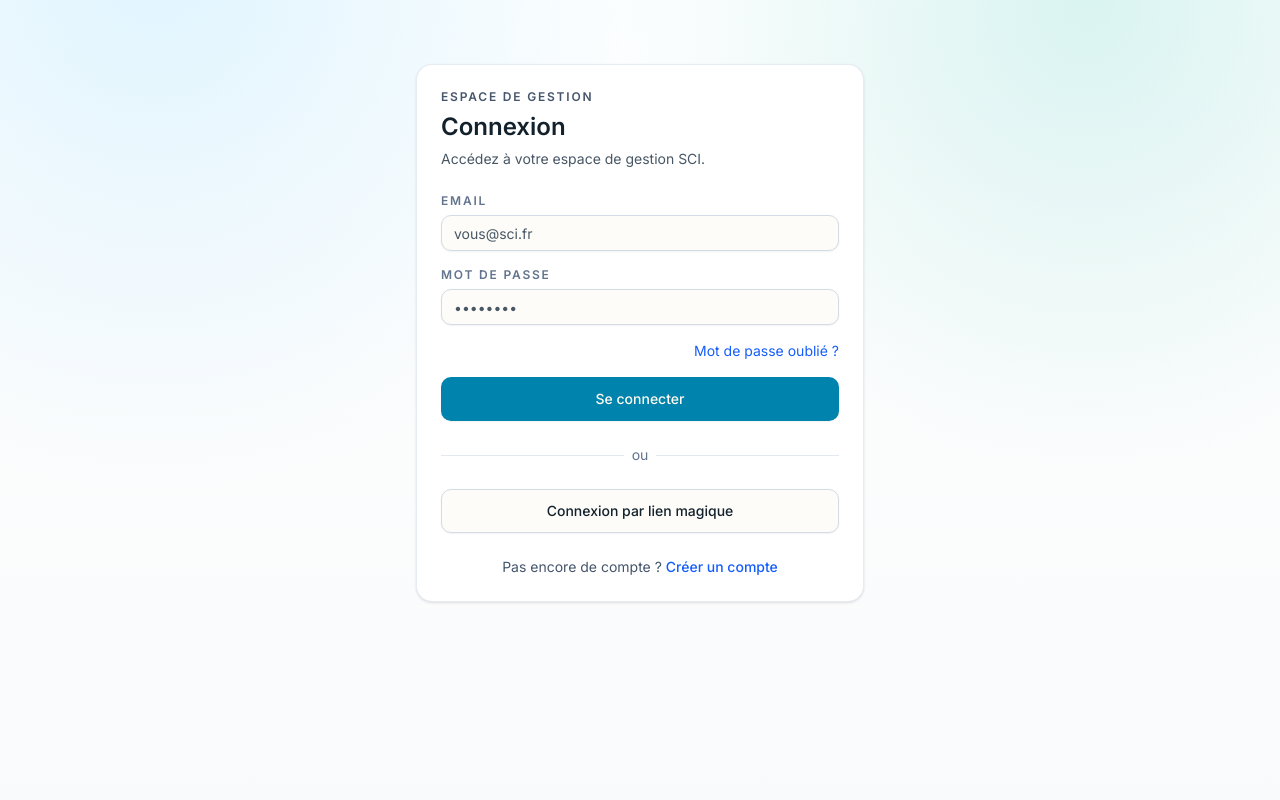
/login/+page.svelte › should toggle between password and magic-link mode
Note: Click to switch to magic-link mode
Click the button "Connexion par lien magique". click: (640, 511)
box: left=441, top=489, right=839, bottom=533
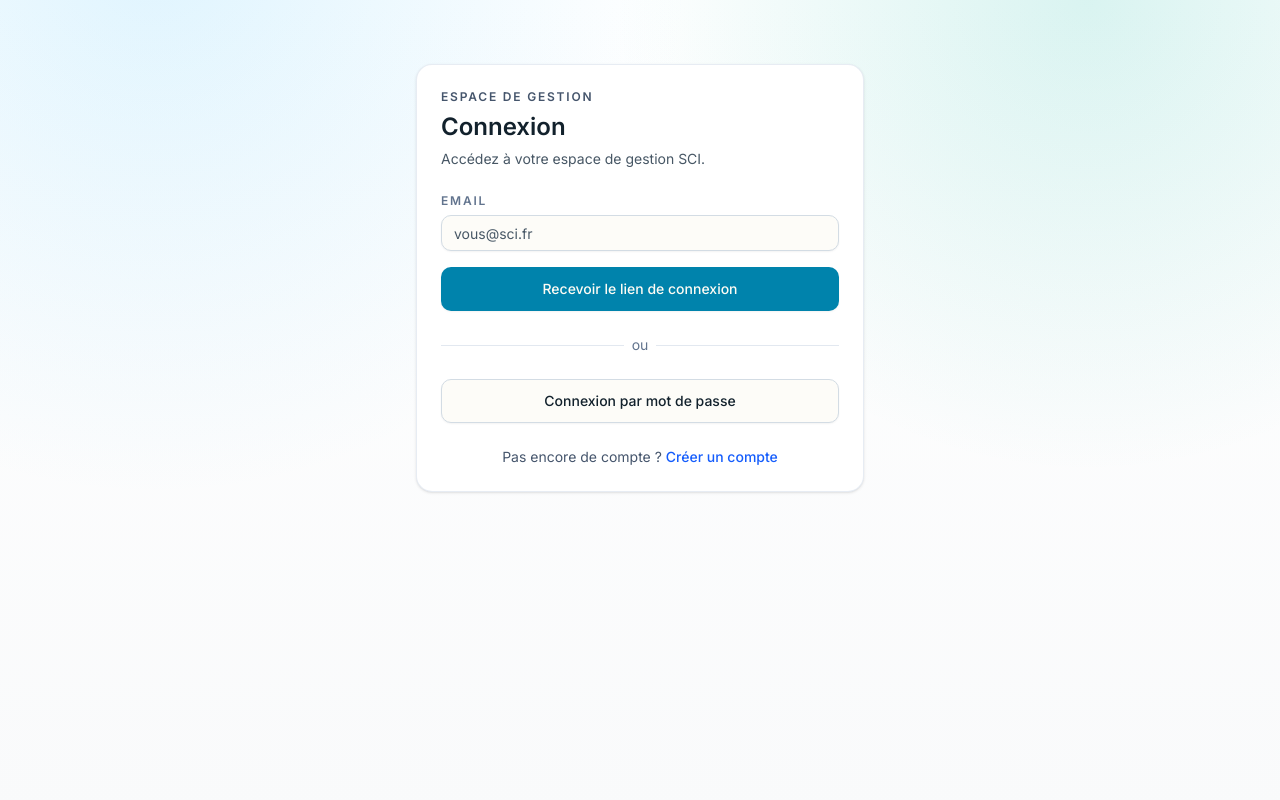
Check: the button "Connexion par mot de passe" is shown, box left=441, top=379, right=839, bottom=423
Check: the button "Recevoir le lien de connexion" is shown, box left=441, top=267, right=839, bottom=311
